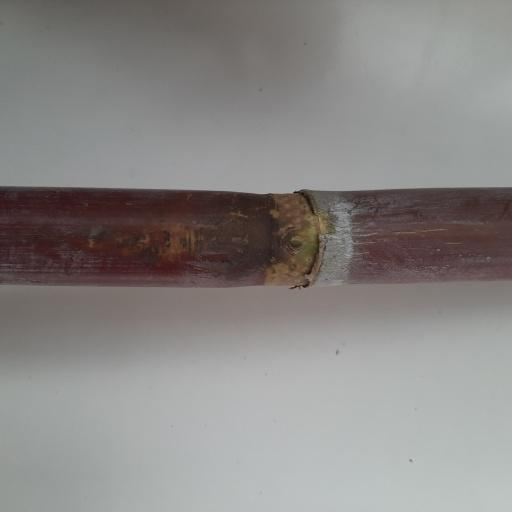Bud: (282, 232, 310, 252)
